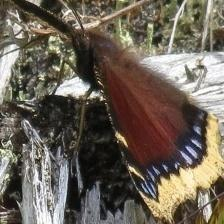butterfly: (12, 0, 223, 224)
